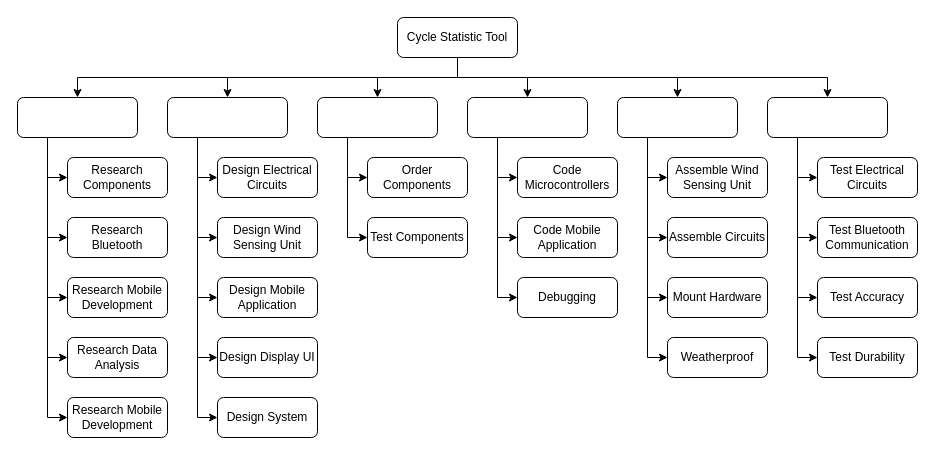
The diagram is 935 pixels wide and 455 high, and some of its shapes have lost their labels. The centre of each missing label's shape, as x and y in pixels:
Assemble: the point at 677,117
Code: the point at 527,117
Design: the point at 227,117
Hardware: the point at 377,117
Research: the point at 77,117
Test: the point at 827,117
